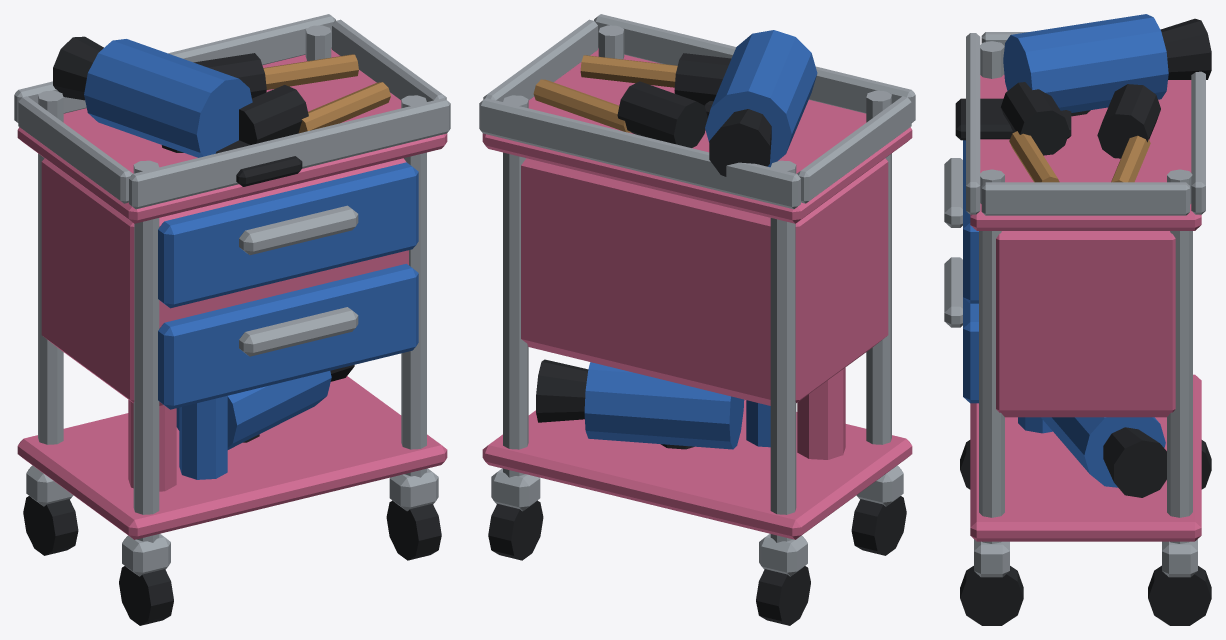
The model's file is trolley.glb.
3 views of the same model, side by side, from view 1: azimuth 30°, elevation 25°; view 2: azimuth 150°, elevation 25°; view 3: azimuth 270°, elevation 25° (orthographic).
Parts seen in each view (by area): view 1: trolley; view 2: trolley; view 3: trolley.
Part boxes in pixels (x1=…): trolley: x1=14, y1=14, x2=450, y2=625; trolley: x1=479, y1=14, x2=915, y2=625; trolley: x1=944, y1=14, x2=1211, y2=625.
Size of the model in its own units: 2.56 by 3.8 by 1.85.
